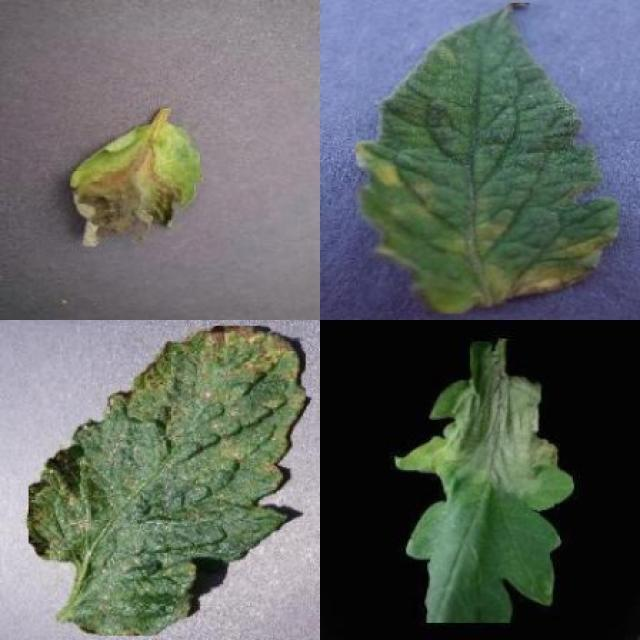Late Blight: (396, 341, 576, 623), (66, 122, 200, 247)
Leaf Mold: (356, 4, 620, 315)
Septoria: (28, 326, 306, 636)
